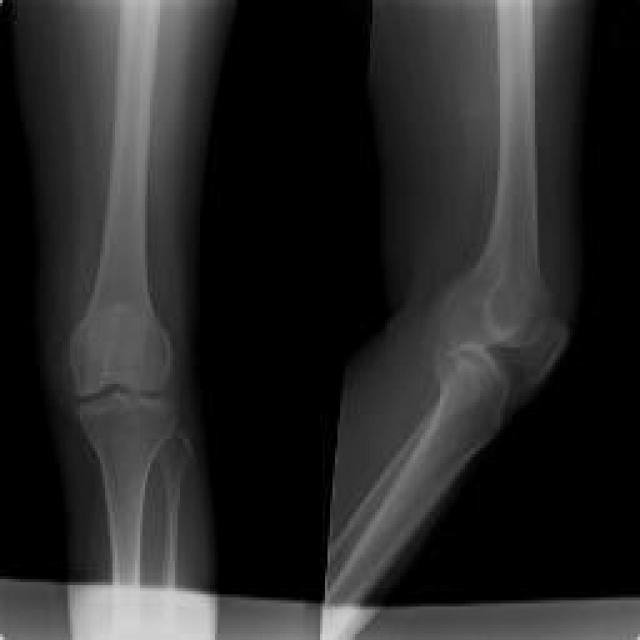normal: (327, 0, 565, 611), (72, 3, 171, 395), (78, 395, 185, 589)
